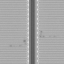dust: (9, 43, 13, 47), (39, 30, 43, 33), (23, 40, 26, 42)
